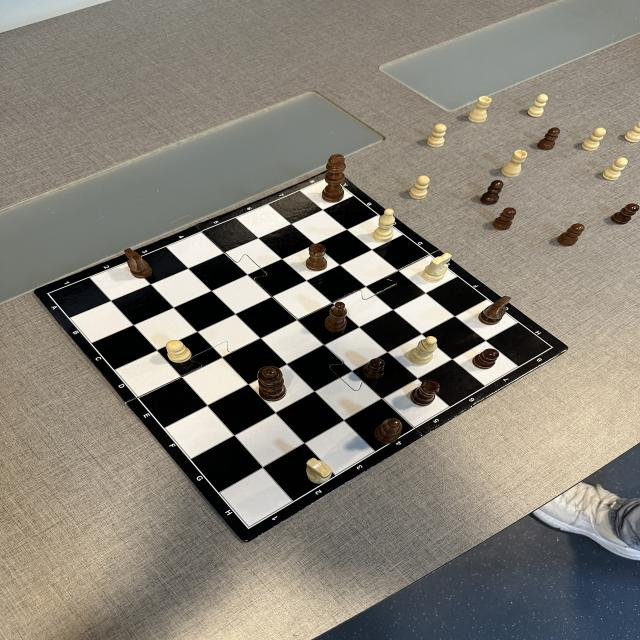Black-Bishop: (375, 419, 402, 444), (325, 302, 347, 332)
Black-King: (322, 154, 346, 202)
Black-Knight: (478, 296, 510, 326), (124, 248, 152, 278)
Black-Pawn: (611, 203, 639, 225), (480, 180, 503, 205), (558, 224, 584, 246), (472, 349, 498, 369), (493, 208, 516, 230), (537, 128, 560, 150), (362, 358, 385, 379)
Black-Queen: (258, 366, 286, 402)
Black-Rook: (411, 380, 439, 406), (306, 245, 327, 270)
White-Bishop: (409, 336, 437, 364), (374, 208, 395, 242)
White-Knight: (421, 253, 452, 282), (306, 458, 332, 484)
White-Pawn: (166, 340, 192, 363), (602, 157, 628, 180), (582, 128, 606, 151), (527, 94, 548, 117), (410, 176, 429, 200), (427, 124, 446, 147), (624, 121, 640, 142)
White-Rook: (501, 150, 527, 178), (468, 96, 492, 123)
